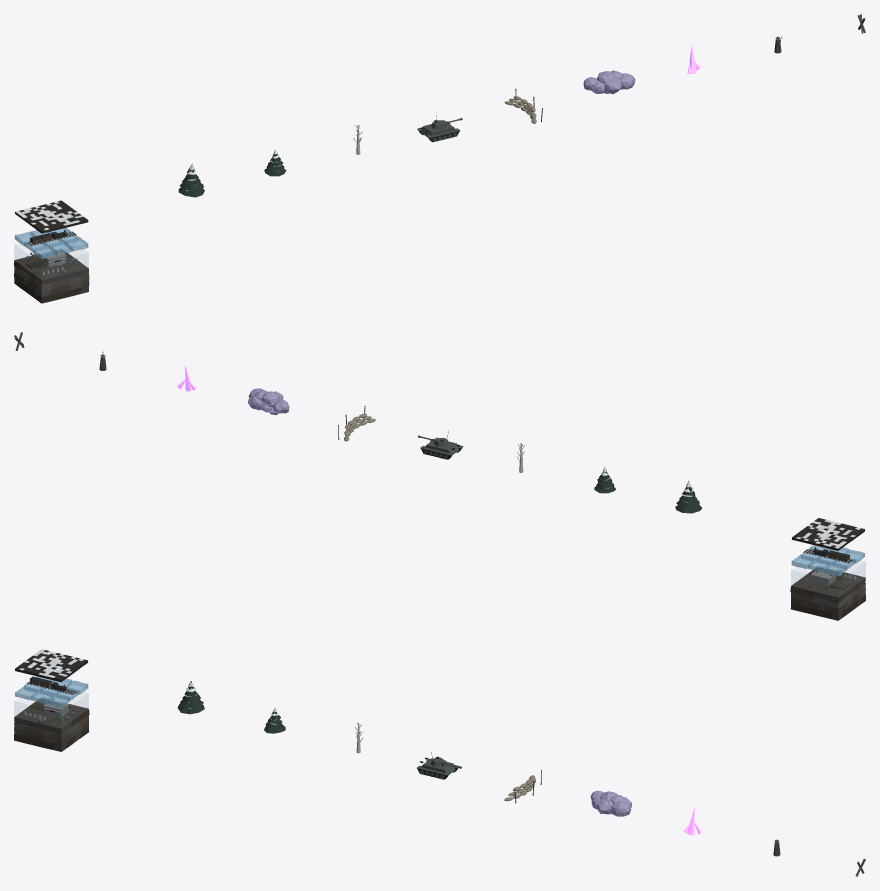
File: modelli.glb
3 views of the same model, one above another, from view 1: azimuth 30°, elevation 25°; view 2: azimuth 150°, elevation 25°; view 3: azimuth 330°, elevation 25° (orthographic).
Visible parts, largest first — view 1: difesa, terreno, ghiaccio, nube, carro; view 2: difesa, terreno, ghiaccio, nube, carro; view 3: difesa, terreno, ghiaccio, nube, carro, abete.
Boxes of the visible parts, x1,y1,x2,y2 form: difesa: (14, 249, 89, 303); terreno: (15, 200, 88, 233); ghiaccio: (14, 227, 88, 259); nube: (583, 70, 635, 94); carro: (417, 115, 462, 142); difesa: (790, 566, 865, 620); terreno: (791, 518, 864, 550); ghiaccio: (791, 545, 865, 576); nube: (248, 388, 289, 415); carro: (418, 431, 463, 459); difesa: (14, 697, 89, 751); terreno: (15, 649, 88, 682); ghiaccio: (14, 676, 88, 707); nube: (590, 790, 631, 816); carro: (417, 752, 461, 779); abete: (177, 681, 204, 714).
Bounding box in the file's own units: 29.95 × 3.1 × 1.82.
